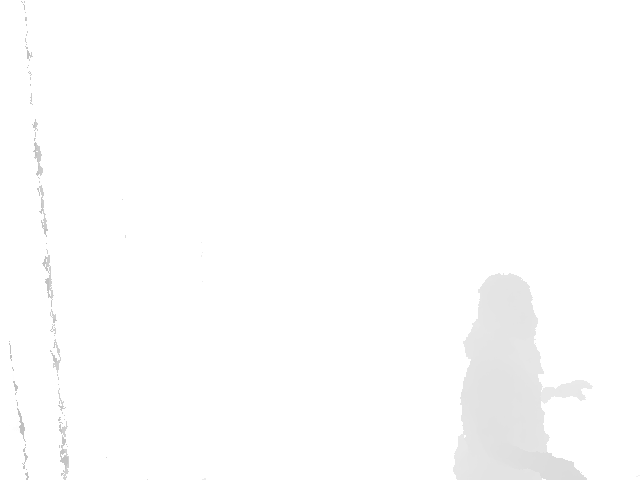head: (477, 274, 539, 350)
person: (452, 275, 593, 480)
